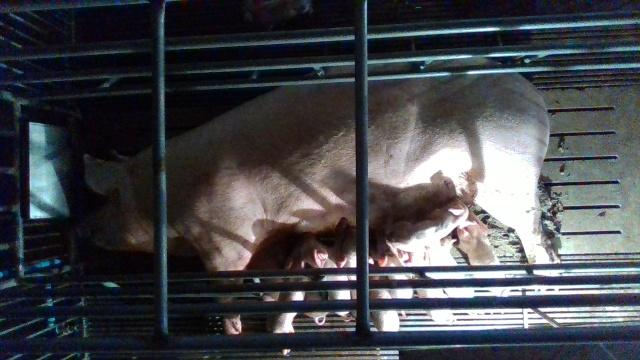piglet: (284, 233, 353, 322), (381, 198, 474, 254), (269, 248, 328, 334), (458, 209, 511, 293), (414, 238, 482, 297), (337, 225, 375, 319), (307, 255, 353, 315), (378, 253, 415, 319), (375, 244, 415, 298), (411, 287, 458, 325), (369, 288, 398, 331)
sow-sleep-lactate: (75, 61, 552, 333)
